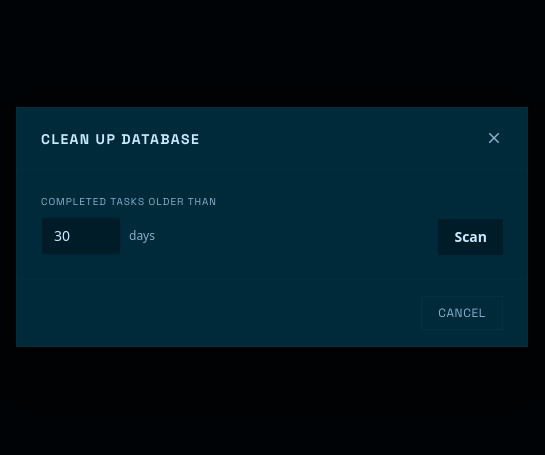
Test: CleanupModal › scans and renders old-completed and orphaned candidates, pre-selected
This screenshot has width=545, height=455.
Click the button "Scan" at coordinates (471, 237), box [438,219,503,255]
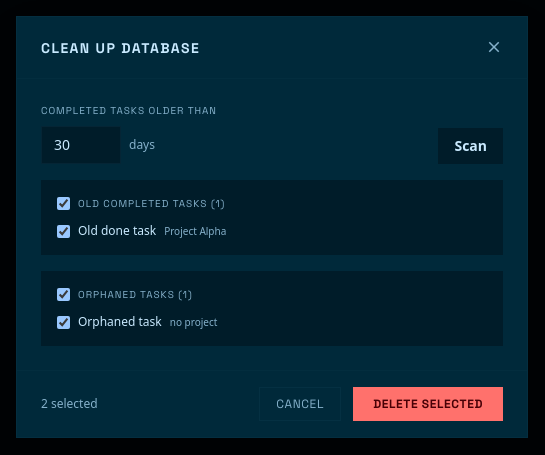
Expected: the text "Old completed tasks (1)" is shown, [78,196,225,211]
Expected: the text "Orphaned tasks (1)" is shown, [78,287,193,302]
Expected: the text "Old done task" is shown, [78,223,156,239]
